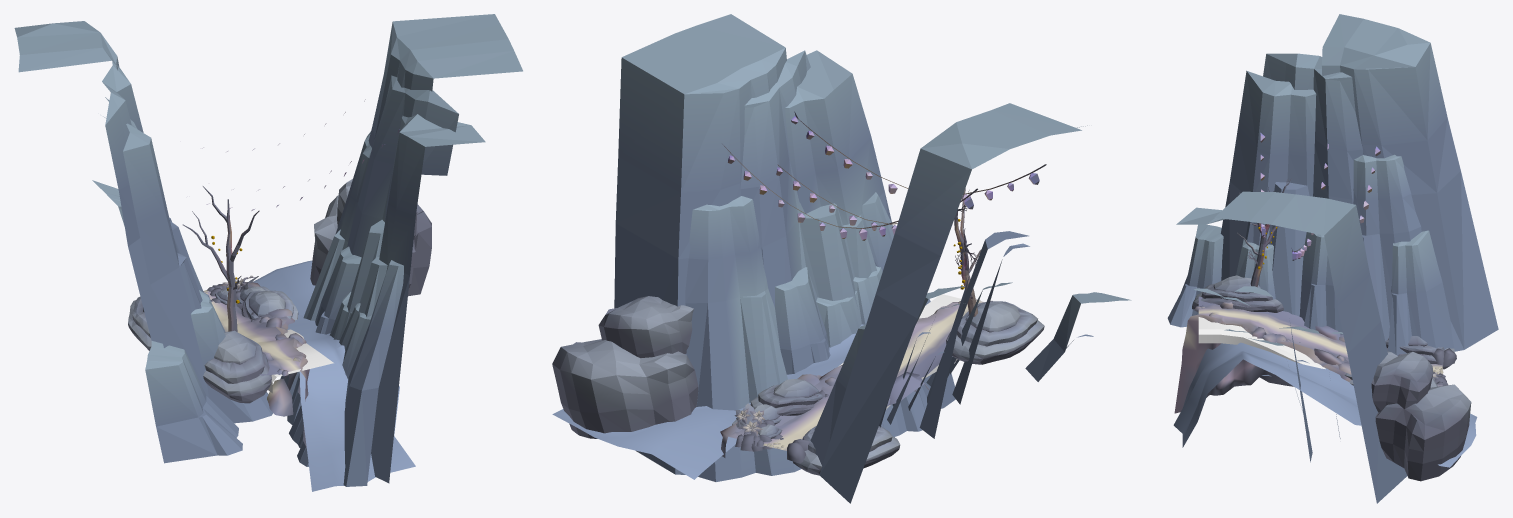
The model's file is Arctic_Narrows_Right_Start_A.glb.
3 renders of one model, left to right at view 1: azimuth 30°, elevation 25°; view 2: azimuth 150°, elevation 25°; view 3: azimuth 270°, elevation 25°, orthographic. The views are drawn at different scales.
Parts seen in each view (by area): view 1: Arctic_Narrows_Left_IceWall_A01 (1), Arctic_Narrows_Right_IceWall_A01 (1), Arctic_Narrows_Right_Start_A, Arctic_Narrows_Right_IceWall_A01_Left, Arctic_Narrows_Left_IceWall_A01_Right, Arctic_Narrows_SnowRock_A01, Arctic_Narrows_Left_IceWall_A01_Left, Arctic_Narrows_Left_IceWall_A01_Mid, Arctic_Narrows_Right_Snow_A01_Top (×2), Arctic_Narrows_Right_Snow_A01 (1), Arctic_Narrows_Right_Snow_A01_Mid, Arctic_BirchA_holiday_multicolour (+1 smaller); view 2: Arctic_Narrows_Left_IceWall_A01 (1), Arctic_Narrows_Right_IceWall_A01 (1), Arctic_Narrows_Left_IceWall_A01_Left, Arctic_Narrows_Right_Start_A, Arctic_Narrows_SnowRock_A01, Arctic_Narrows_Left_IceWall_A01_Right, Arctic_Narrows_SnowRock_A01 (1), Arctic_Narrows_Left_IceWall_A01_Mid, Arctic_Narrows_Right_IceWall_A01_Left, Arctic_Narrows_Right_Snow_A01_Mid (×2), Arctic_Narrows_Right_IceWall_A01_Right, Arctic_Narrows_Right_Snow_A01_Top (×2) (+6 smaller); view 3: Arctic_Narrows_Right_IceWall_A01 (1), Arctic_Narrows_Left_IceWall_A01 (1), Arctic_Narrows_Right_Start_A, Arctic_Narrows_Right_IceWall_A01_Mid, Arctic_Narrows_SnowRock_A01, Arctic_Narrows_Right_IceWall_A01_Right, Arctic_Narrows_Right_IceWall_A01_Left, Arctic_Narrows_SnowRock_A01 (1), inv_fill, Arctic_Narrows_Right_Snow_A01 (1), Arctic_Narrows_Right_Snow_A01_Mid, Arctic_Narrows_Right_Snow_A01_Top (+1 smaller).
Boxes of the visible parts, x1=… form: Arctic_Narrows_Left_IceWall_A01 (1): x1=345, y1=14, x2=522, y2=483; Arctic_Narrows_Right_IceWall_A01 (1): x1=14, y1=21, x2=208, y2=397; Arctic_Narrows_Right_Start_A: x1=203, y1=260, x2=415, y2=491; Arctic_Narrows_Right_IceWall_A01_Left: x1=145, y1=290, x2=272, y2=463; Arctic_Narrows_Left_IceWall_A01_Right: x1=289, y1=260, x2=403, y2=486; Arctic_Narrows_SnowRock_A01: x1=310, y1=195, x2=431, y2=296; Arctic_Narrows_Left_IceWall_A01_Left: x1=280, y1=131, x2=371, y2=396; Arctic_Narrows_Left_IceWall_A01_Mid: x1=287, y1=246, x2=361, y2=424; Arctic_Narrows_Right_Snow_A01_Top (×2): x1=214, y1=291, x2=285, y2=364; Arctic_Narrows_Right_Snow_A01 (1): x1=203, y1=352, x2=271, y2=403; Arctic_Narrows_Right_Snow_A01_Mid: x1=204, y1=339, x2=264, y2=383; Arctic_BirchA_holiday_multicolour: x1=203, y1=186, x2=237, y2=331; Arctic_Narrows_Left_IceWall_A01 (1): x1=614, y1=14, x2=891, y2=474; Arctic_Narrows_Right_IceWall_A01 (1): x1=819, y1=103, x2=1087, y2=503; Arctic_Narrows_Left_IceWall_A01_Left: x1=685, y1=196, x2=801, y2=481; Arctic_Narrows_Right_Start_A: x1=552, y1=299, x2=992, y2=479; Arctic_Narrows_SnowRock_A01: x1=552, y1=339, x2=698, y2=438; Arctic_Narrows_Left_IceWall_A01_Right: x1=816, y1=192, x2=955, y2=437; Arctic_Narrows_SnowRock_A01 (1): x1=598, y1=296, x2=693, y2=358; Arctic_Narrows_Left_IceWall_A01_Mid: x1=775, y1=267, x2=830, y2=374; Arctic_Narrows_Right_IceWall_A01_Left: x1=926, y1=282, x2=1131, y2=386; Arctic_Narrows_Right_Snow_A01_Mid (×2): x1=758, y1=301, x2=1037, y2=407; Arctic_Narrows_Right_IceWall_A01_Right: x1=810, y1=324, x2=865, y2=469; Arctic_Narrows_Right_Snow_A01_Top (×2): x1=773, y1=301, x2=1020, y2=397; Arctic_Narrows_Right_IceWall_A01 (1): x1=1220, y1=14, x2=1498, y2=351; Arctic_Narrows_Left_IceWall_A01 (1): x1=1176, y1=191, x2=1407, y2=503; Arctic_Narrows_Right_Start_A: x1=1173, y1=296, x2=1477, y2=467; Arctic_Narrows_Right_IceWall_A01_Mid: x1=1299, y1=154, x2=1421, y2=340; Arctic_Narrows_SnowRock_A01: x1=1375, y1=377, x2=1471, y2=481; Arctic_Narrows_Right_IceWall_A01_Right: x1=1388, y1=230, x2=1454, y2=355; Arctic_Narrows_Right_IceWall_A01_Left: x1=1167, y1=224, x2=1275, y2=327; Arctic_Narrows_SnowRock_A01 (1): x1=1371, y1=351, x2=1433, y2=412; inv_fill: x1=1198, y1=317, x2=1325, y2=369; Arctic_Narrows_Right_Snow_A01 (1): x1=1192, y1=292, x2=1283, y2=312; Arctic_Narrows_Right_Snow_A01_Mid: x1=1201, y1=283, x2=1272, y2=301; Arctic_Narrows_Right_Snow_A01_Top: x1=1213, y1=275, x2=1260, y2=293.
Size of the model in its own units: 26.35 by 21.88 by 20.39.
